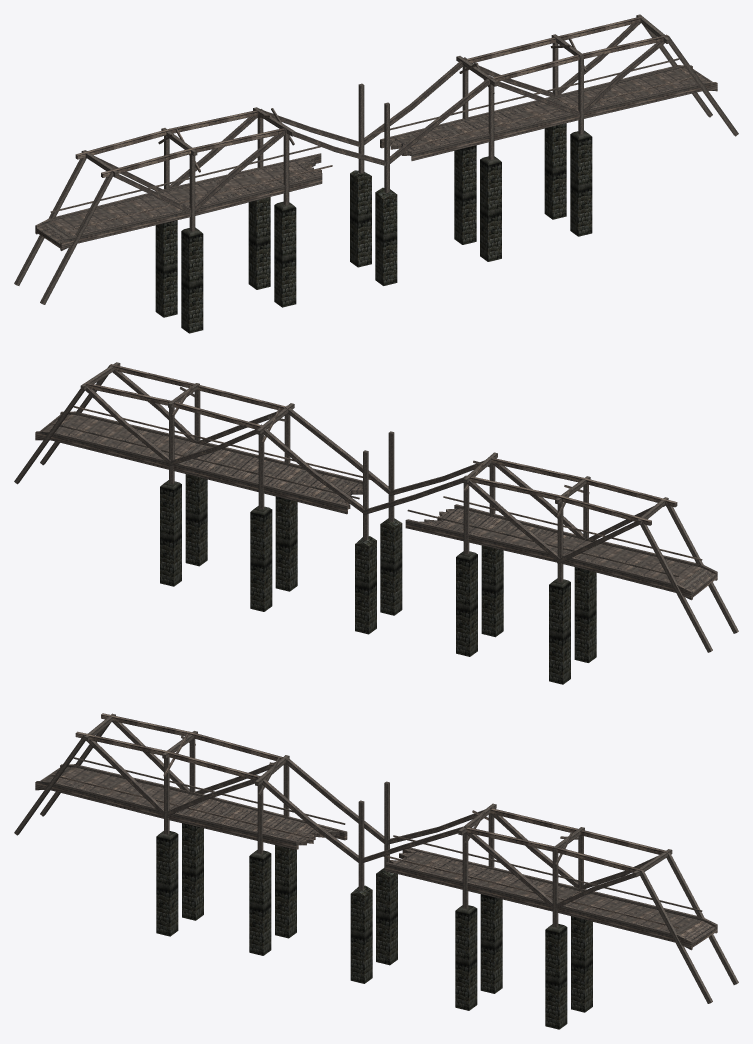
The model's file is Brdg02Xa.glb.
The picture shows the model from 3 angles, top to bottom: view 1: azimuth 30°, elevation 25°; view 2: azimuth 150°, elevation 25°; view 3: azimuth 330°, elevation 25°; orthographic projection.
Visible parts, largest first — view 1: _Brdg02Xa; view 2: _Brdg02Xa; view 3: _Brdg02Xa.
Part boxes in pixels (<box>): _Brdg02Xa: <box>14,14,738,333</box>; _Brdg02Xa: <box>14,362,738,684</box>; _Brdg02Xa: <box>14,713,738,1029</box>.
Bounding box in the file's own units: 99.91 × 25.91 × 9.13.
2 materials, 2 textured.
